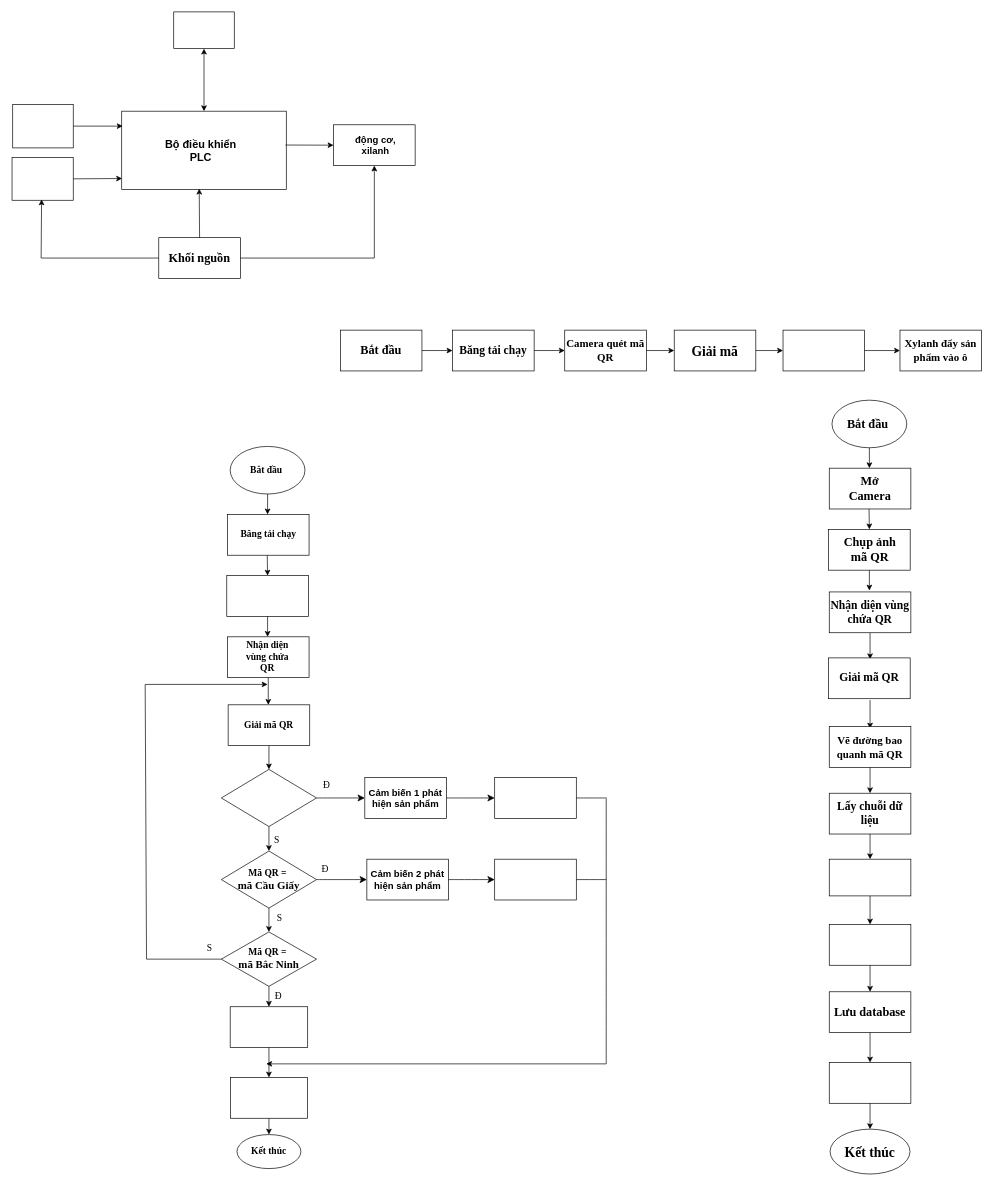
This 993x1186 diagram has some shape labels left out. The shapes that lost their labels are listed below. From the top down, each one's centre as x and y in pixels, then its label:
At point (203, 30): "Màn hình".
At point (42, 126): "Camera".
At point (42, 178): "Cảm biến quang, nút nhấn".
At point (823, 350): "Cảm biến phát hiện sản phẩm".
At point (267, 595): "Mở Webcam và quét ảnh".
At point (269, 798): "Mã QR = mã Tây Hồ".
At point (535, 797): "Đẩy vào ô Tây Hồ".
At point (535, 879): "Đẩy vào ô Cầu Giấy".
At point (870, 877): "Kiểm tra mã hợp lệ".
At point (870, 944): "Gửi về PLC".
At point (269, 1027): "Đi đến cuối băng tải".
At point (268, 1097): "Đếm và lưu trữ kết quả".
At point (870, 1082): "Cập nhật giao diện".
